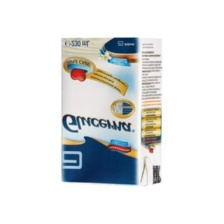carton: (57, 36, 165, 189)
